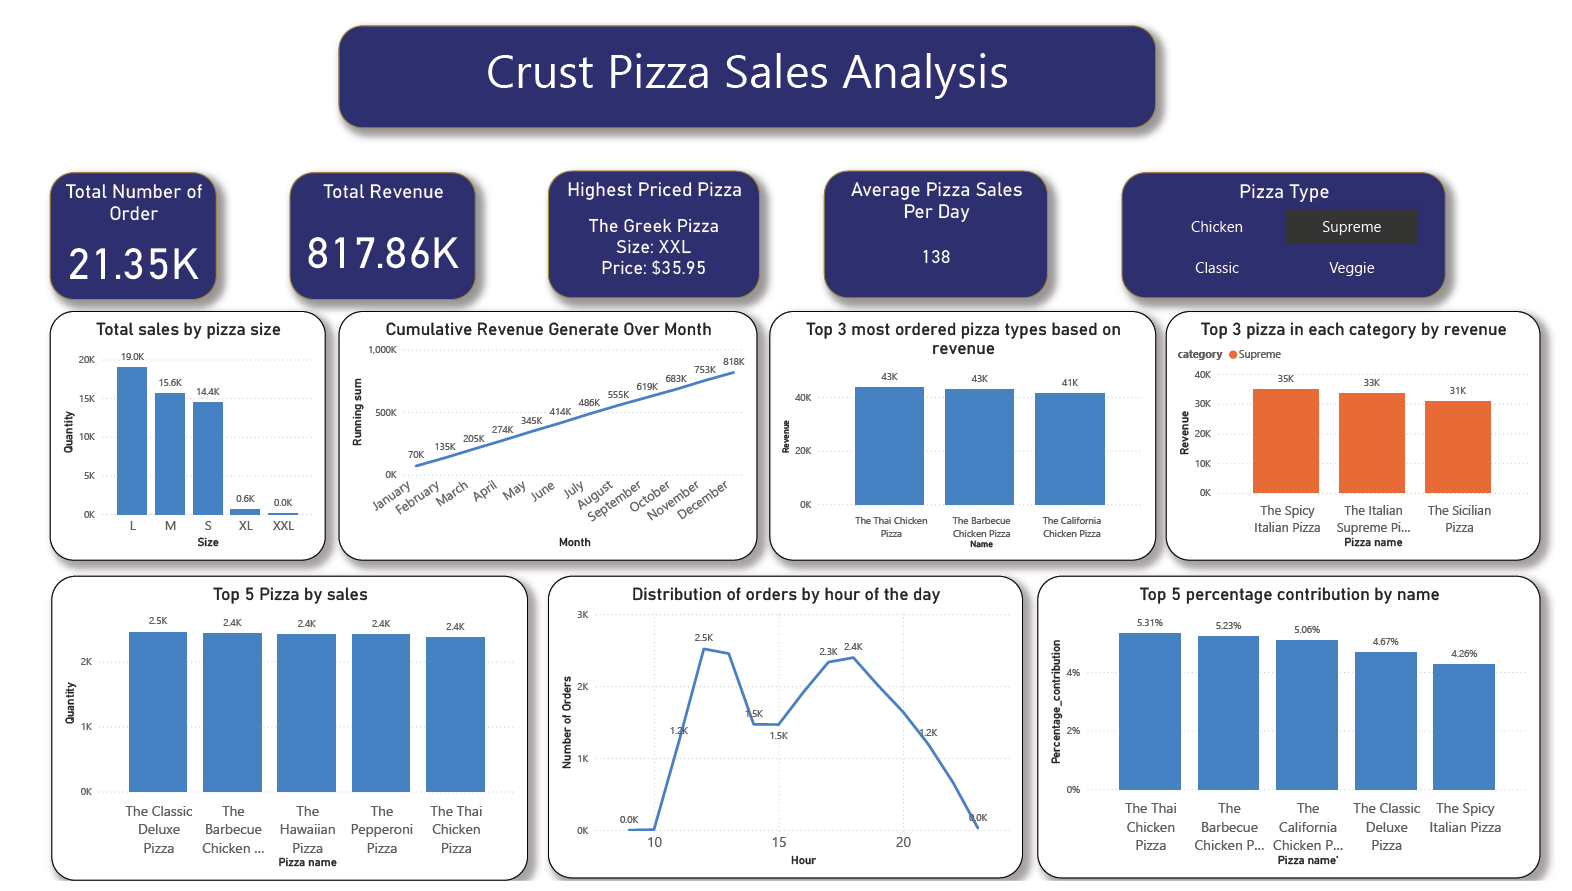

What the dashboard file says about the page in this screenshot:
{"tool":"powerbi","page":{"name":"Page 1","canvas":[1920,1080],"ordinal":0},"visuals":[{"type":"card","title":"Total  Number of Order","fields":{"Values":["crustpizza orders.total_number_order"]},"box":[43.2,197,207.4,159],"z":0},{"type":"card","title":"Total Revenue","fields":{"Values":["crustpizza order_detail.Total_revenue"]},"box":[342.2,197,231.6,159],"z":1000},{"type":"card","title":"Highest Priced Pizza","fields":{"Values":["crustpizza pizzas.Highest_Price_Pizza"]},"box":[663.6,195.3,264.4,159],"z":2000},{"type":"columnChart","title":"Total sales by pizza size","fields":{"Category":["crustpizza pizzas.size"],"Y":["Sum(crustpizza order_detail.quantity)"]},"box":[43.2,369.8,343.9,311.1],"z":3000},{"type":"columnChart","title":"Top 5 Pizza by sales","fields":{"Category":["crustpizza pizza_type.name"],"Y":["Sum(crustpizza order_detail.quantity)"]},"box":[44.9,699.9,594.5,380.2],"z":4000},{"type":"lineChart","title":"Distribution of orders by hour of the day","fields":{"Category":["crustpizza orders.order_hour"],"Y":["crustpizza orders.total_number_order"]},"box":[663.6,699.9,592.8,376.7],"z":5000},{"type":"card","title":"Average Pizza Sales Per Day","fields":{"Values":["crustpizza order_detail.Average_pizza_perday"]},"box":[1007.5,195.3,280,159],"z":5001},{"type":"columnChart","title":"Top 3 most ordered pizza types based on revenue","fields":{"Y":["crustpizza order_detail.Total_revenue"],"Category":["crustpizza pizza_type.name"]},"box":[940.1,369.8,482.2,311.1],"z":5002},{"type":"columnChart","title":"Top 5 percentage contribution by name","fields":{"Category":["crustpizza pizza_type.name"],"Y":["crustpizza order_detail.Percentage_contribution"]},"box":[1273.7,699.9,627.3,376.7],"z":5003},{"type":"lineChart","title":"Cumulative Revenue Generate Over Month","fields":{"Category":["crustpizza orders.order_date.Variation.Date Hierarchy.Month"],"Y":["crustpizza order_detail.Total_revenue","select"]},"box":[402.7,369.8,521.9,311.1],"z":5005},{"type":"clusteredColumnChart","title":"Top 3 pizza in each category by revenue","fields":{"Category":["crustpizza pizza_type.name"],"Y":["crustpizza order_detail.Total_revenue"],"Series":["crustpizza pizza_type.category"]},"box":[1434.4,369.8,466.6,311.1],"z":5006},{"type":"slicer","title":"Pizza Type","fields":{"Values":["crustpizza pizza_type.category"]},"box":[1379.1,197,404.4,157.3],"z":5007},{"type":"textbox","box":[402.7,13.8,1019.6,127.9],"z":5008}]}

Visuals, with their boxes in screenshot pixels (x1, y1, x2, y2), scaled from the page's 1920x1080 canvas onto the 1572x891 screenshot:
"Total  Number of Order" card: <bbox>35, 163, 205, 294</bbox>
"Total Revenue" card: <bbox>280, 163, 470, 294</bbox>
"Highest Priced Pizza" card: <bbox>543, 161, 760, 292</bbox>
"Total sales by pizza size" columnChart: <bbox>35, 305, 317, 562</bbox>
"Top 5 Pizza by sales" columnChart: <bbox>37, 577, 524, 890</bbox>
"Distribution of orders by hour of the day" lineChart: <bbox>543, 577, 1029, 888</bbox>
"Average Pizza Sales Per Day" card: <bbox>825, 161, 1054, 292</bbox>
"Top 3 most ordered pizza types based on revenue" columnChart: <bbox>770, 305, 1165, 562</bbox>
"Top 5 percentage contribution by name" columnChart: <bbox>1043, 577, 1556, 888</bbox>
"Cumulative Revenue Generate Over Month" lineChart: <bbox>330, 305, 757, 562</bbox>
"Top 3 pizza in each category by revenue" clusteredColumnChart: <bbox>1174, 305, 1556, 562</bbox>
"Pizza Type" slicer: <bbox>1129, 163, 1460, 292</bbox>
textbox: <bbox>330, 11, 1165, 117</bbox>
